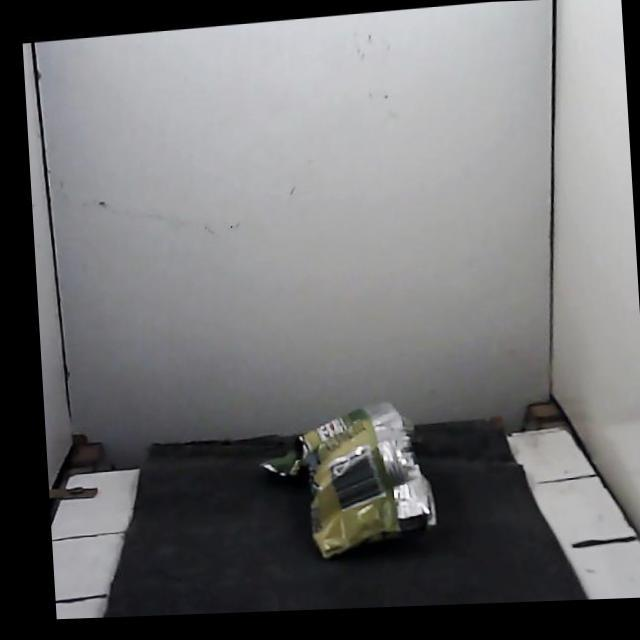plastico: (262, 402, 435, 557)
